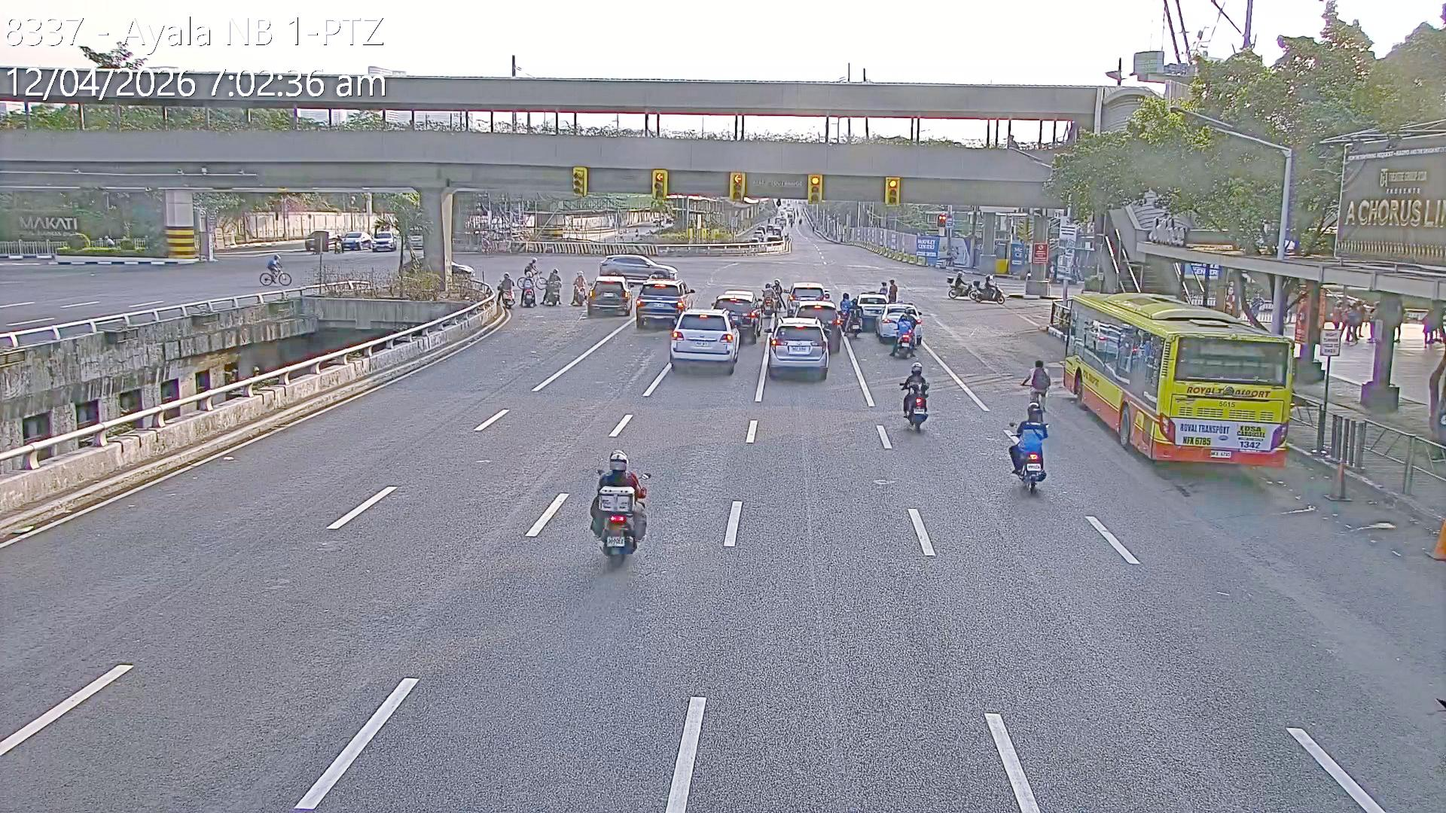Car: (667, 309, 740, 373), (766, 318, 832, 380), (633, 277, 691, 330), (712, 289, 763, 343), (791, 300, 842, 353), (598, 253, 676, 282), (585, 273, 632, 318), (875, 302, 922, 346), (788, 281, 831, 315), (854, 292, 891, 331), (304, 226, 342, 255), (339, 230, 371, 251), (371, 229, 397, 251)
Motor: (1003, 399, 1059, 500), (589, 465, 649, 559), (896, 367, 928, 428), (971, 272, 1009, 308), (942, 268, 979, 300), (492, 269, 519, 311), (541, 268, 567, 308), (846, 297, 864, 339), (519, 270, 537, 310), (571, 268, 589, 308), (758, 284, 779, 318), (840, 290, 853, 330)
Not Accident: (635, 276, 740, 369), (585, 253, 691, 329), (770, 282, 844, 384), (672, 288, 762, 366), (496, 268, 630, 320), (854, 285, 928, 356)
